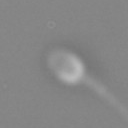normal: (81, 74, 128, 117)
